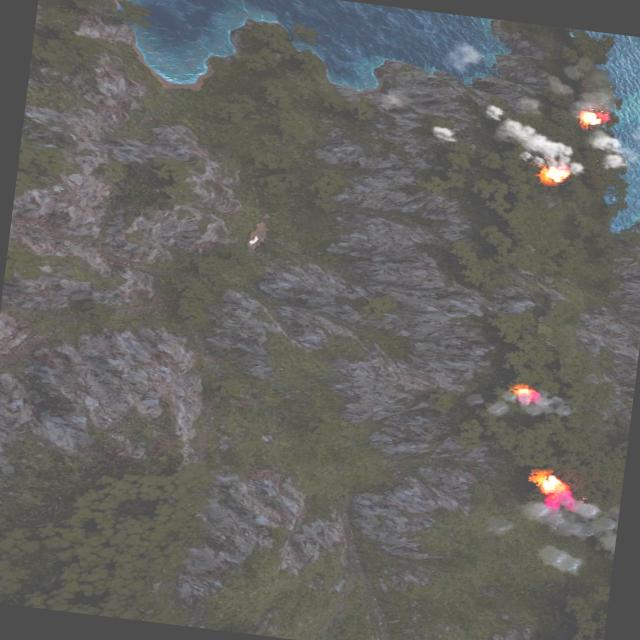fire: (524, 468, 576, 509), (536, 162, 569, 186), (507, 382, 539, 402), (576, 107, 608, 127)
smoke: (484, 484, 620, 578), (480, 109, 592, 178), (486, 391, 568, 429), (583, 130, 640, 173), (440, 40, 476, 76), (424, 124, 460, 144)
